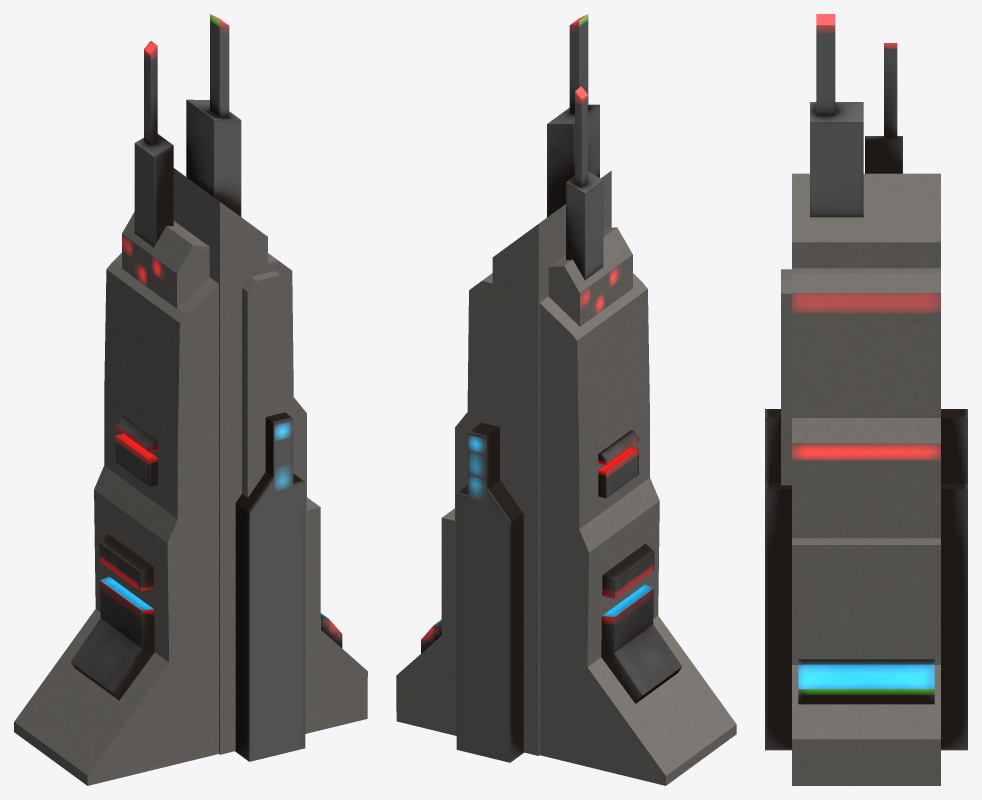
Rendered from SM_BackgroundBuilding_004.fbx.
3 views of the same model, side by side, from view 1: azimuth 30°, elevation 25°; view 2: azimuth 150°, elevation 25°; view 3: azimuth 270°, elevation 25° (orthographic). The views are drawn at different scales.
Parts seen in each view (by area): view 1: SM_BackgroundBuilding_004; view 2: SM_BackgroundBuilding_004; view 3: SM_BackgroundBuilding_004.
Part boxes in pixels (<box>): SM_BackgroundBuilding_004: <box>14,14,367,785</box>; SM_BackgroundBuilding_004: <box>396,14,736,785</box>; SM_BackgroundBuilding_004: <box>765,14,967,785</box>.
Bounding box in the file's own units: 1701 × 1093 × 4210.
1 material, 1 textured.
